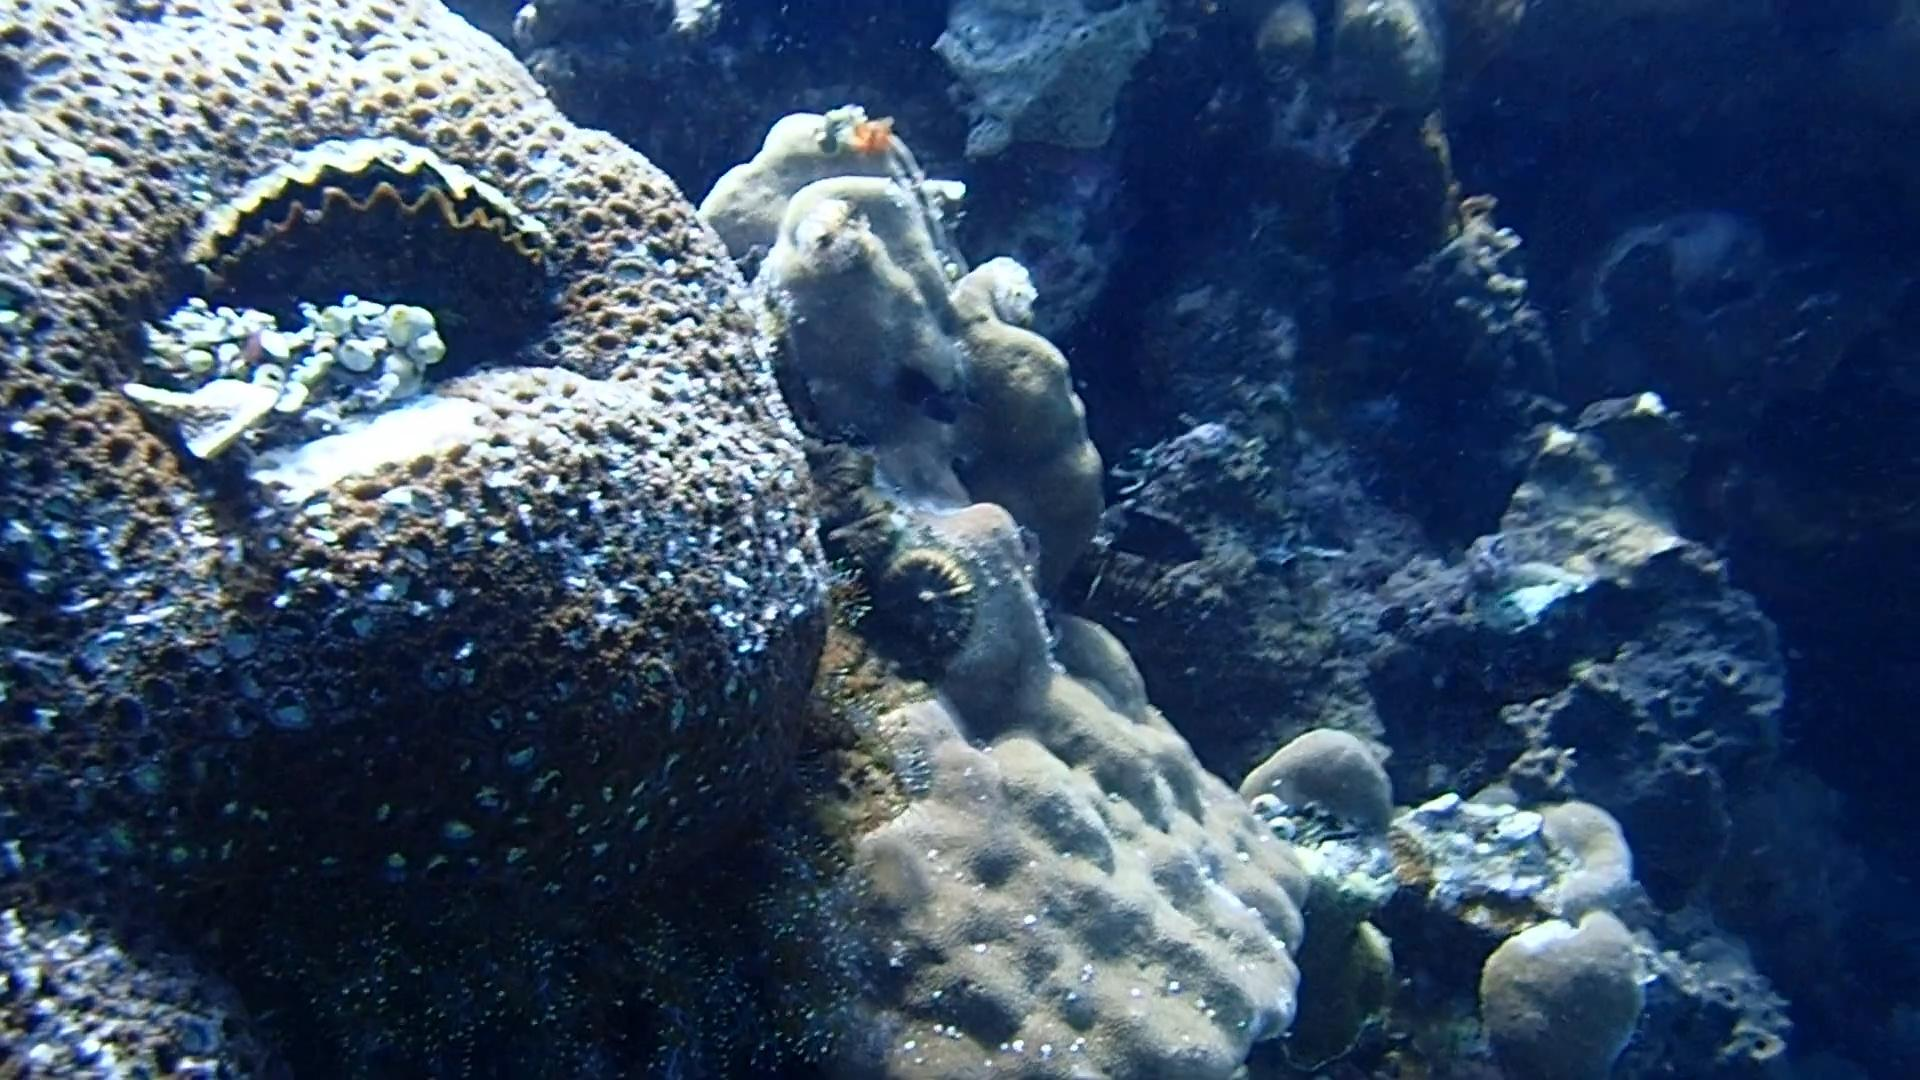Dark Fish: (1093, 492, 1218, 582), (876, 343, 972, 442)
